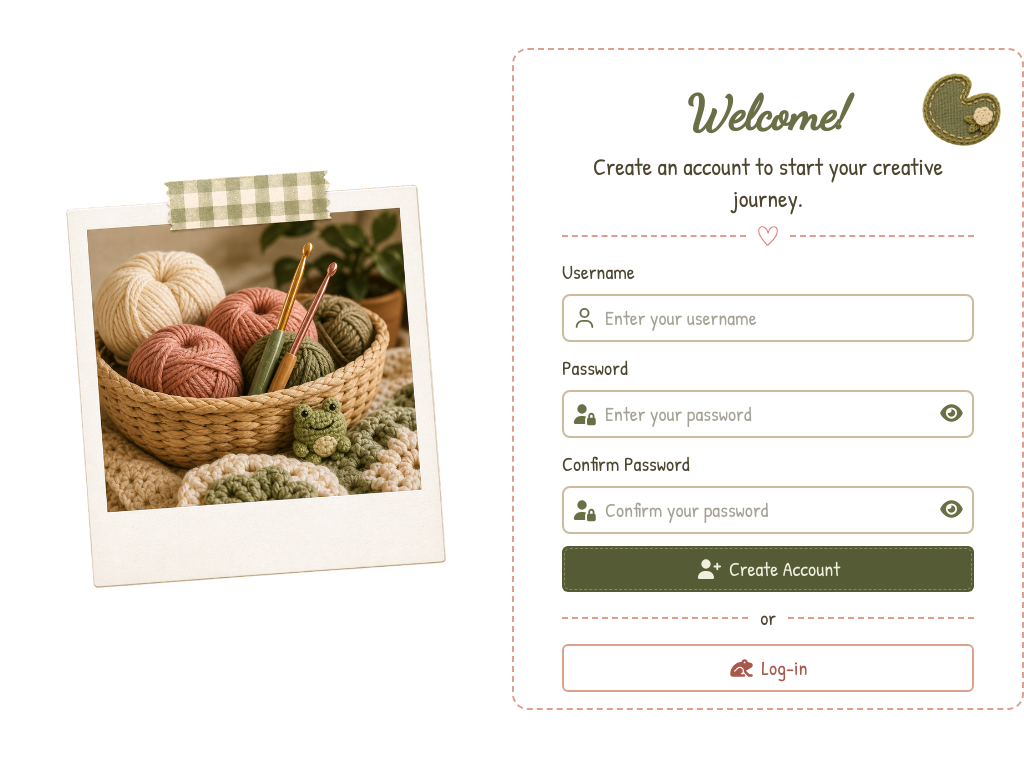
CreateAccount › validates required fields and matching passwords
Type "froggy" into the field labelled "Username". click: (784, 318)
box: [605, 304, 964, 332]
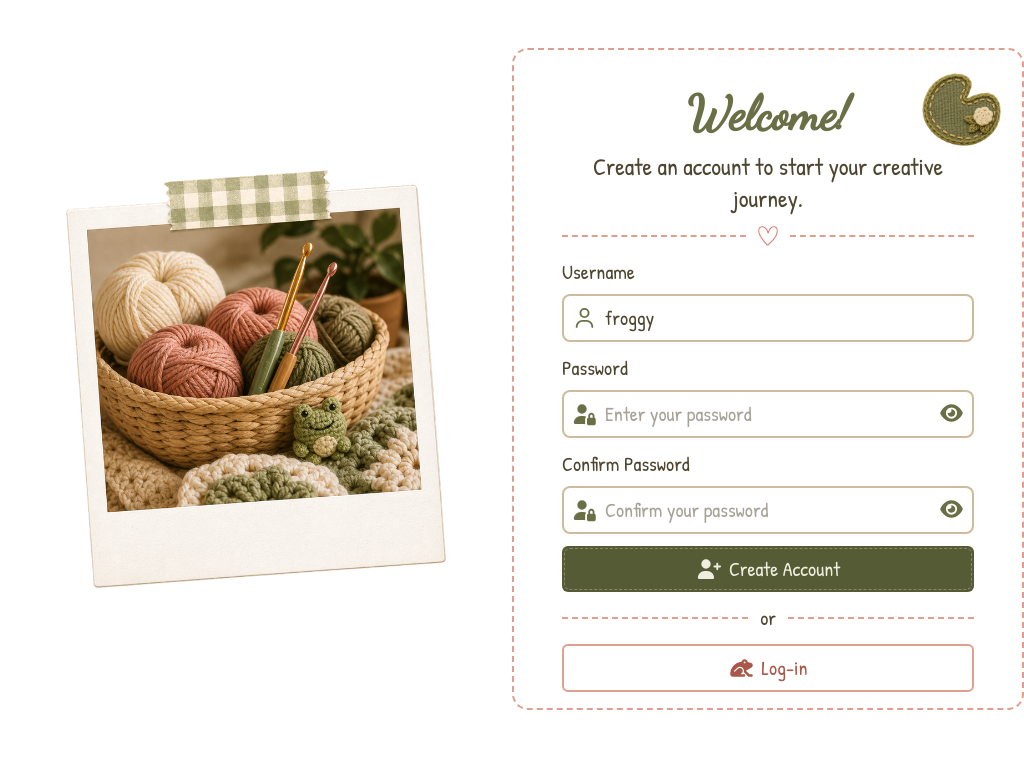
Type "secret" into the password field labelled "Password". click: (768, 414)
box: [605, 400, 931, 428]
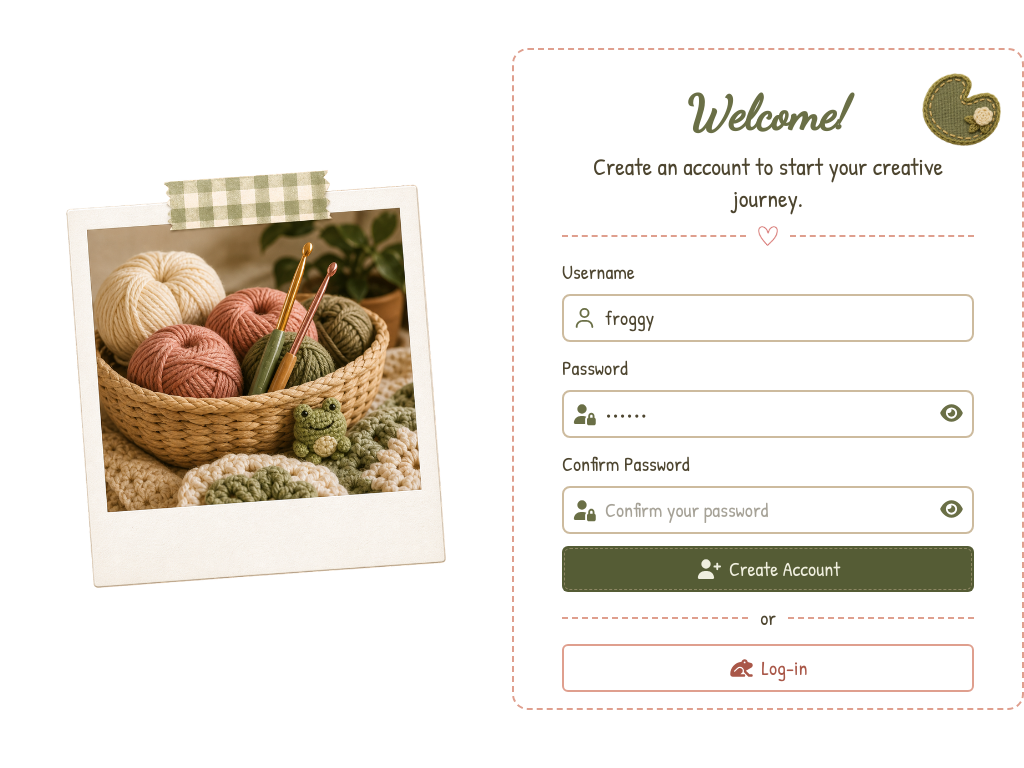
Type "different" into the password field labelled "Confirm Password". click: (768, 510)
box: [605, 496, 931, 524]
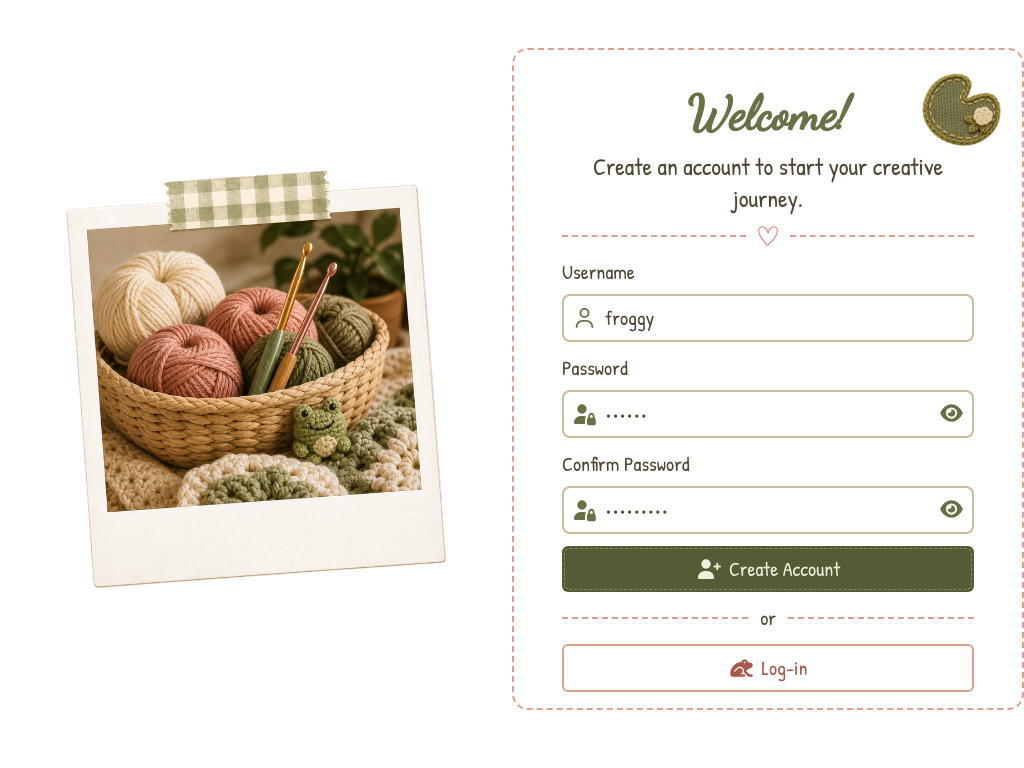
Click the button "Create Account". click: (768, 569)
box: [562, 546, 974, 592]
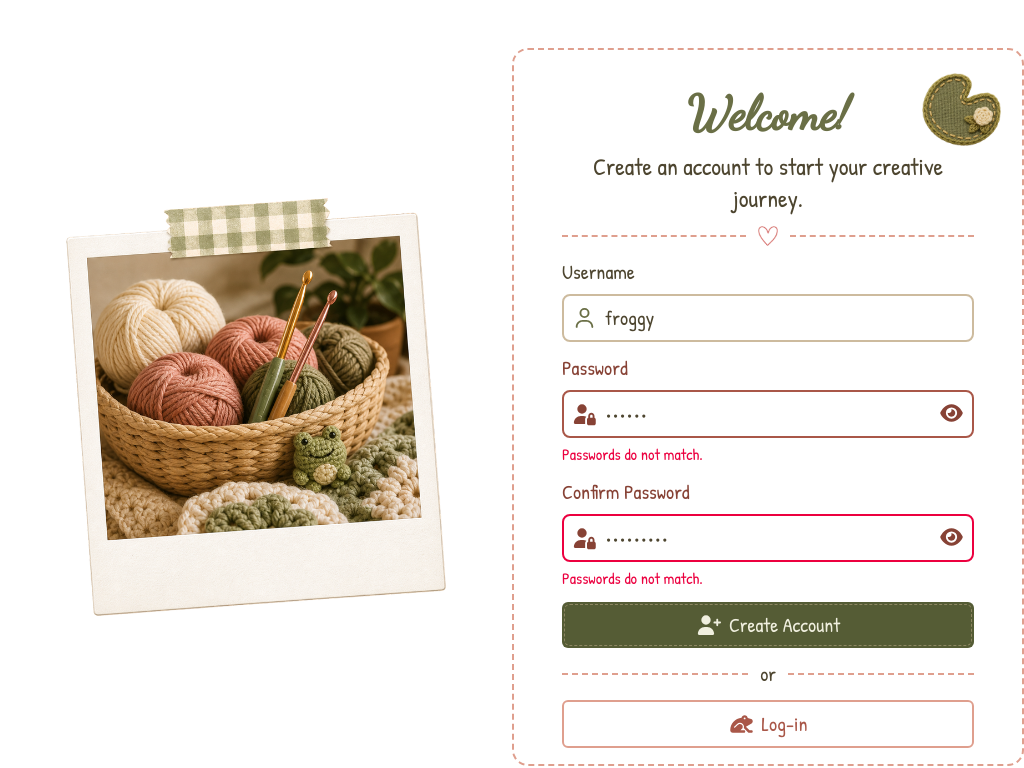
Now the text "Passwords do not match." is shown 2 times, box [562, 443, 703, 465]; [562, 567, 703, 589]
